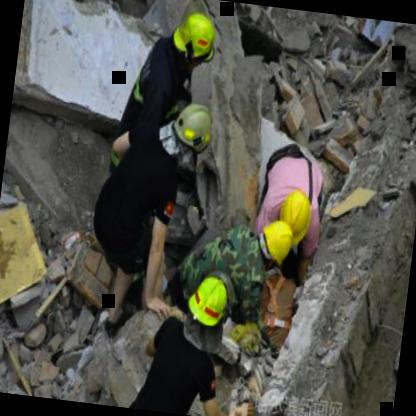helmet: (170, 7, 224, 78), (273, 184, 321, 250), (186, 271, 232, 337), (167, 96, 214, 160), (257, 214, 295, 268)
